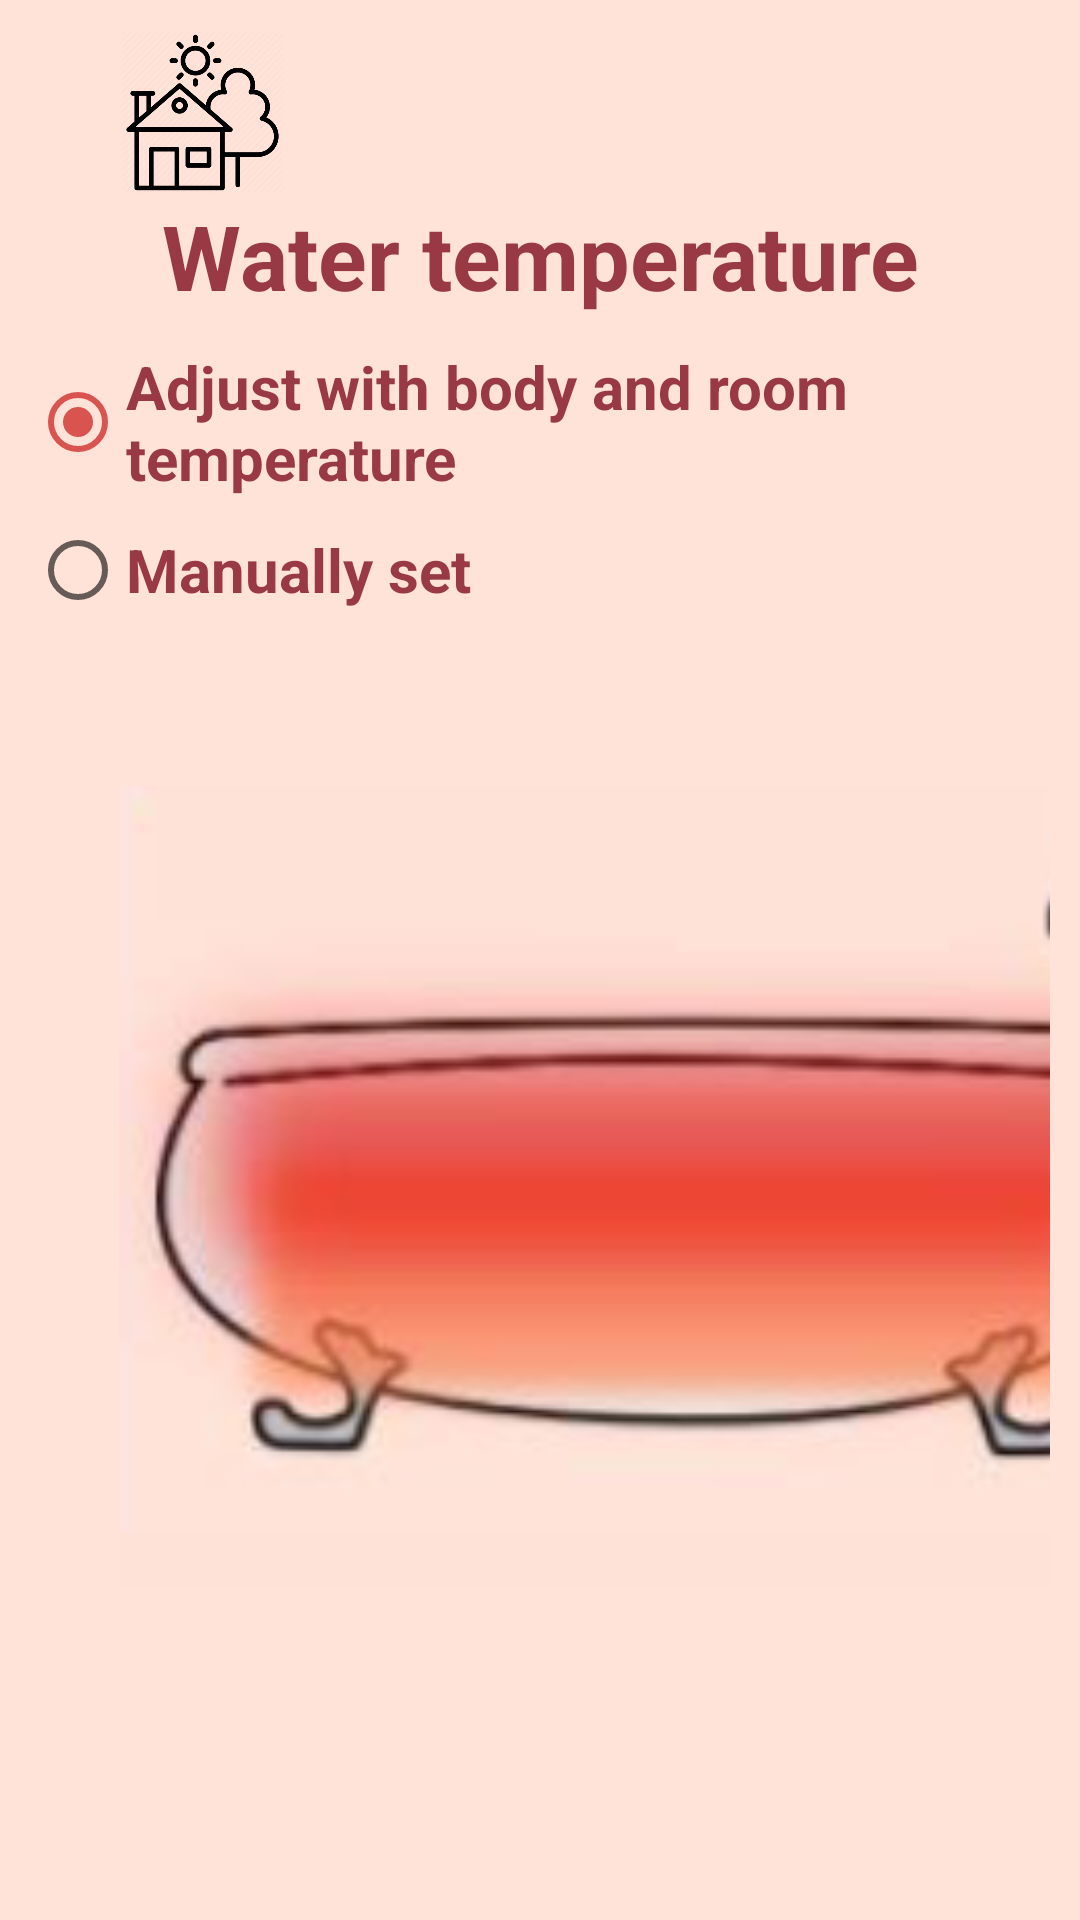

Icons on this 1080 × 1920 Android screen, each with the point to tap as (x,y):
house: (202,112)
